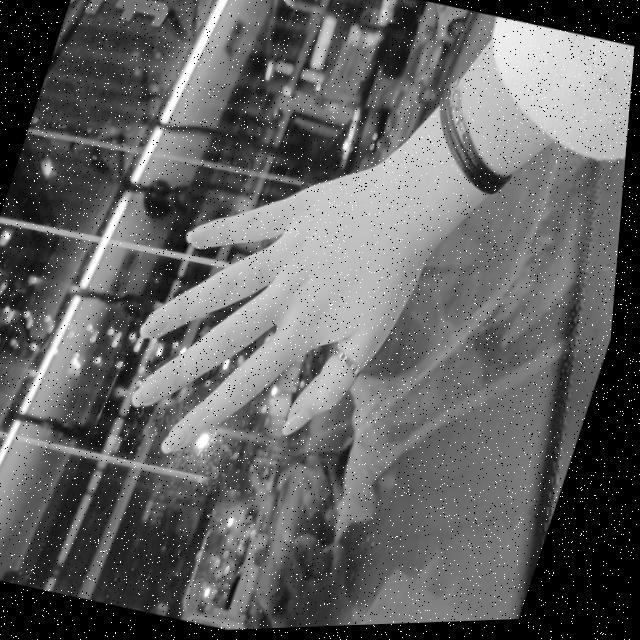no-gloves: (105, 123, 458, 503)
